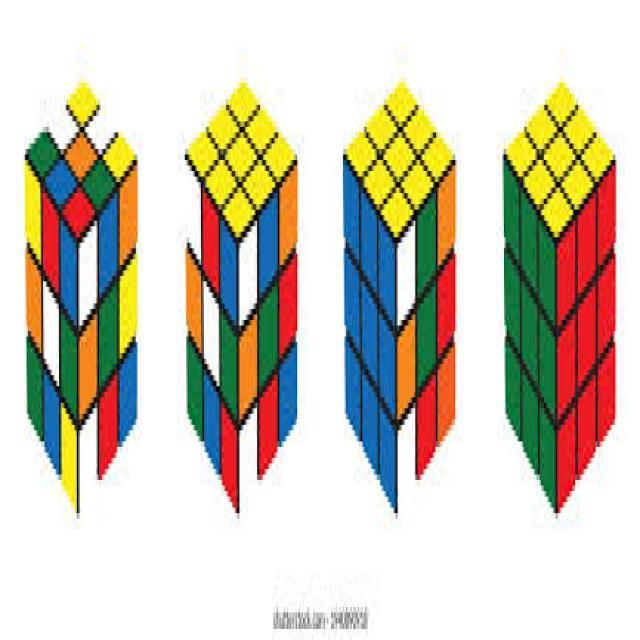Rub: (341, 80, 458, 514), (182, 80, 299, 514), (22, 81, 139, 515), (501, 80, 618, 513)
